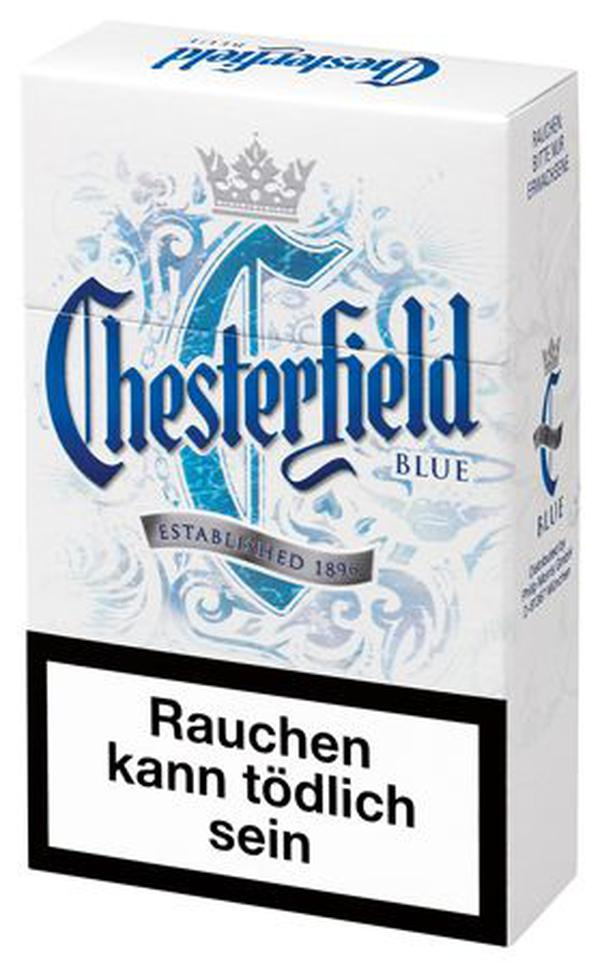chesterfield_blue: (28, 100, 514, 876)
